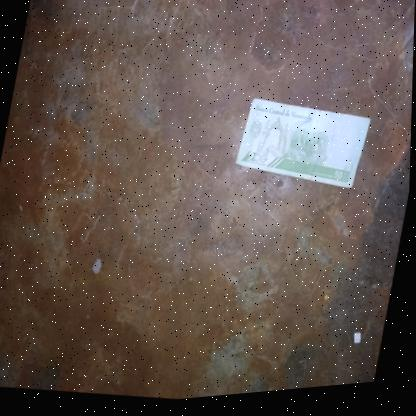fifty-back-vef: (231, 93, 374, 205)
